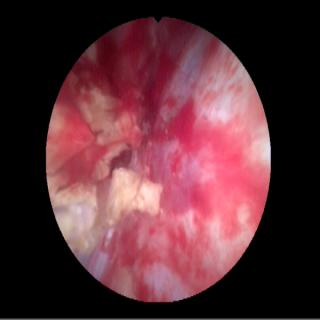stone: (82, 90, 128, 182), (49, 177, 103, 253), (107, 170, 162, 223)
